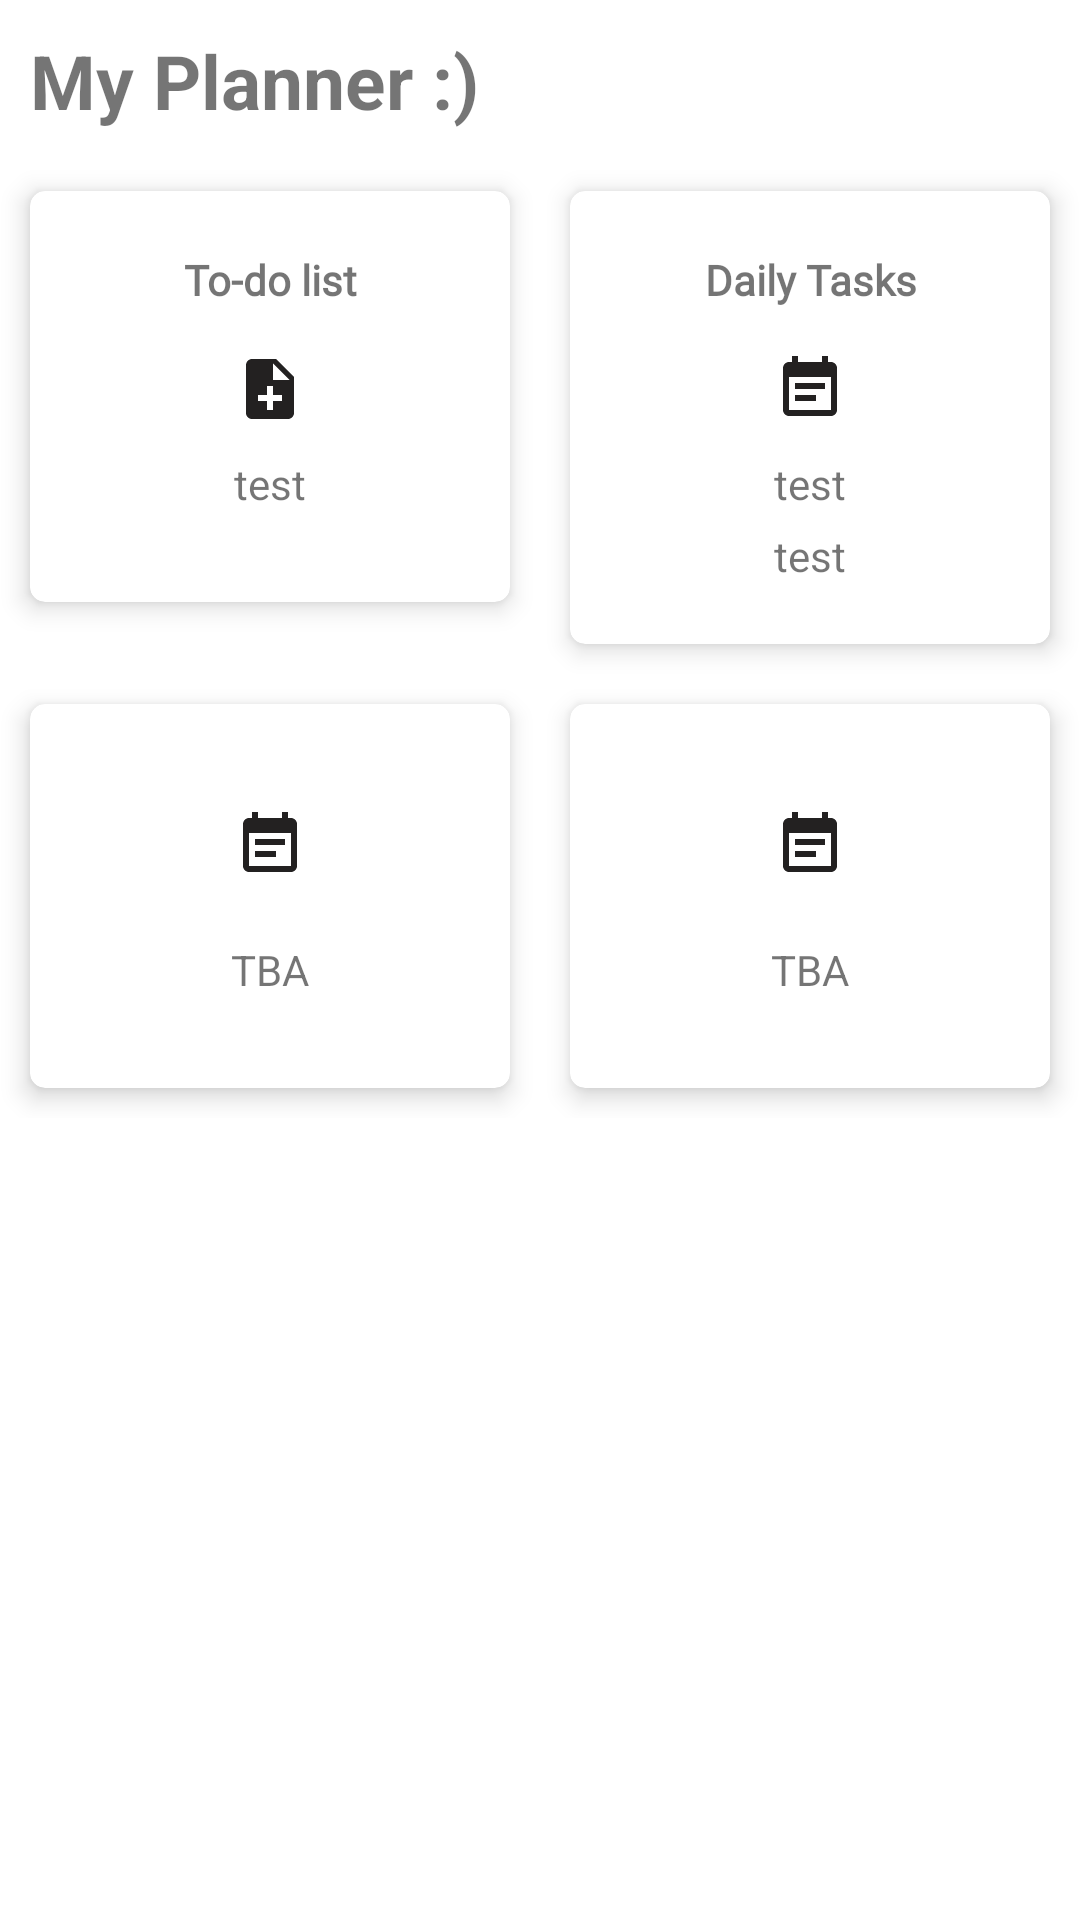

Where icons sit on this 1080w x 1920h app screen, as Rect(x1, y1, x2, y2):
note: Rect(246, 359, 294, 419)
